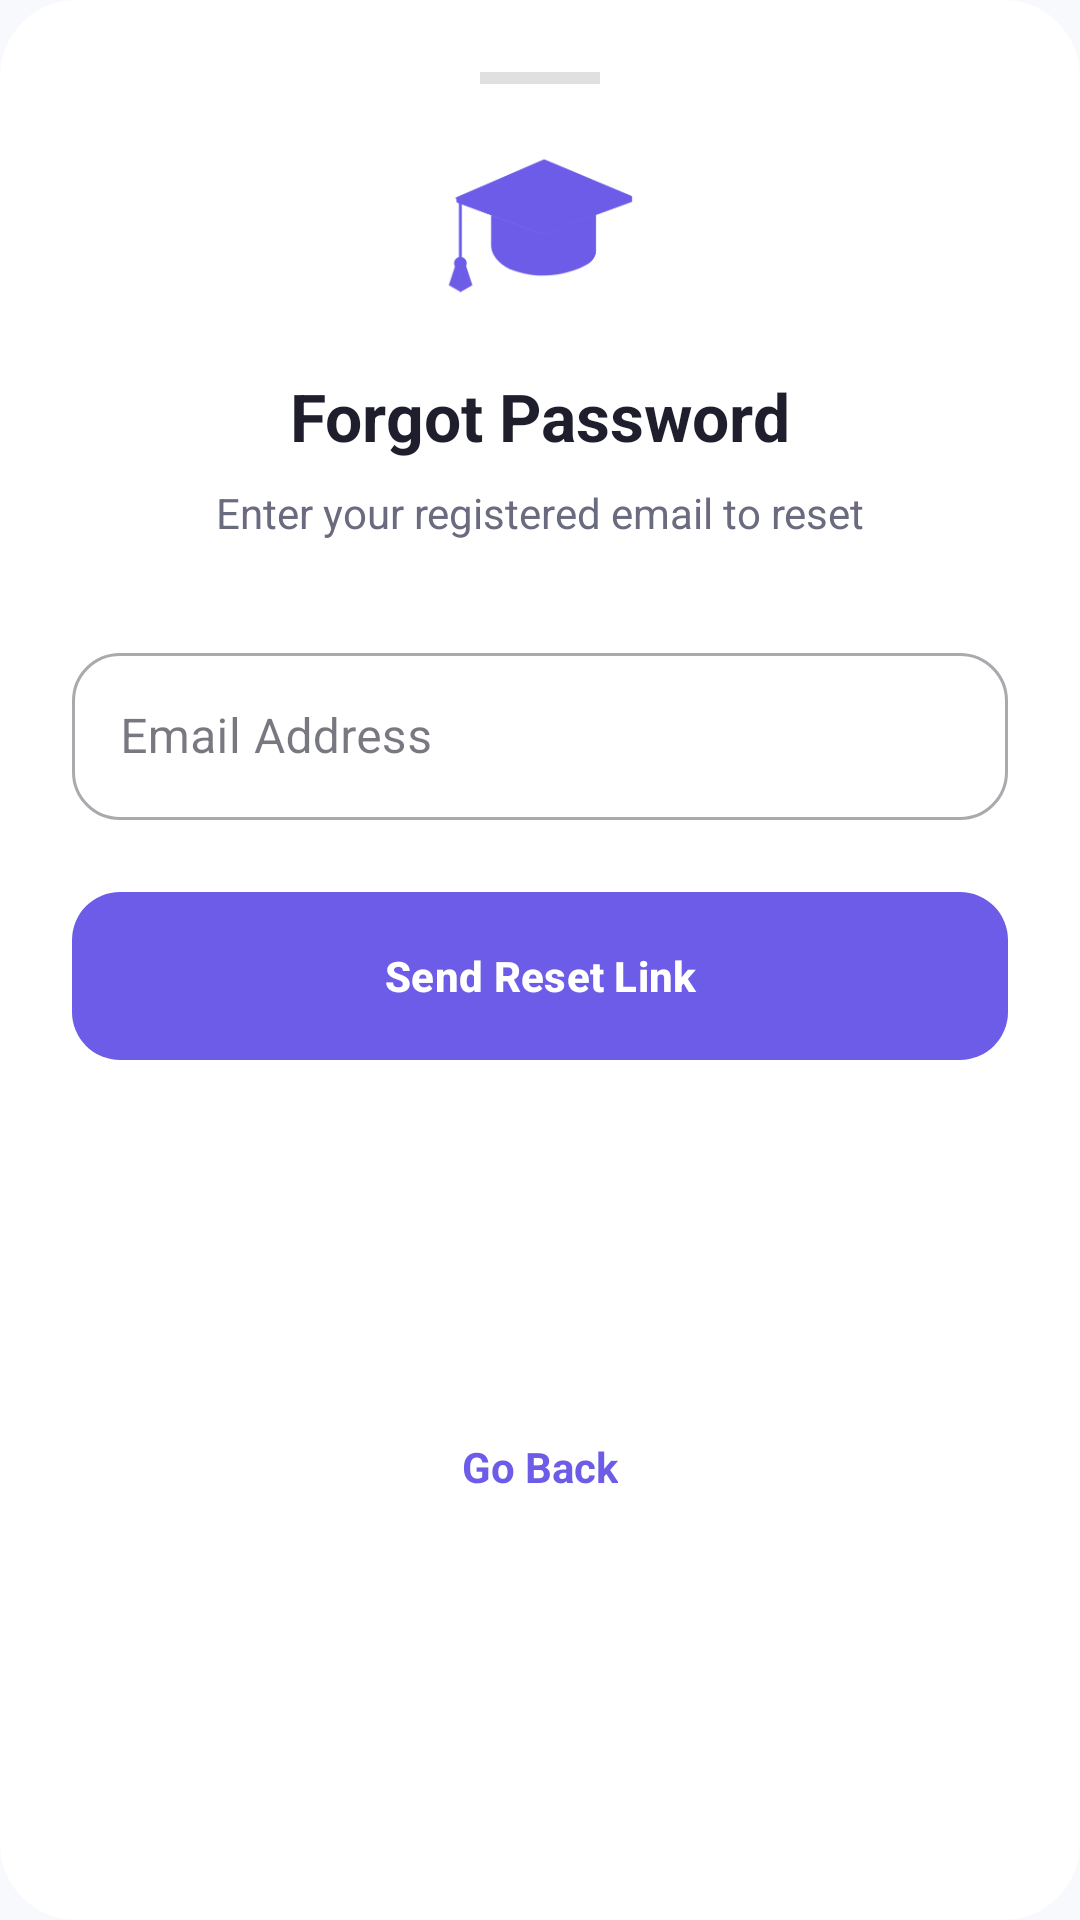

Locate icon controls on the screen. Image size 1080w x 1920h, boxes as (x1, y1, x2, y2).
graduationcap: (448, 159, 633, 293)
